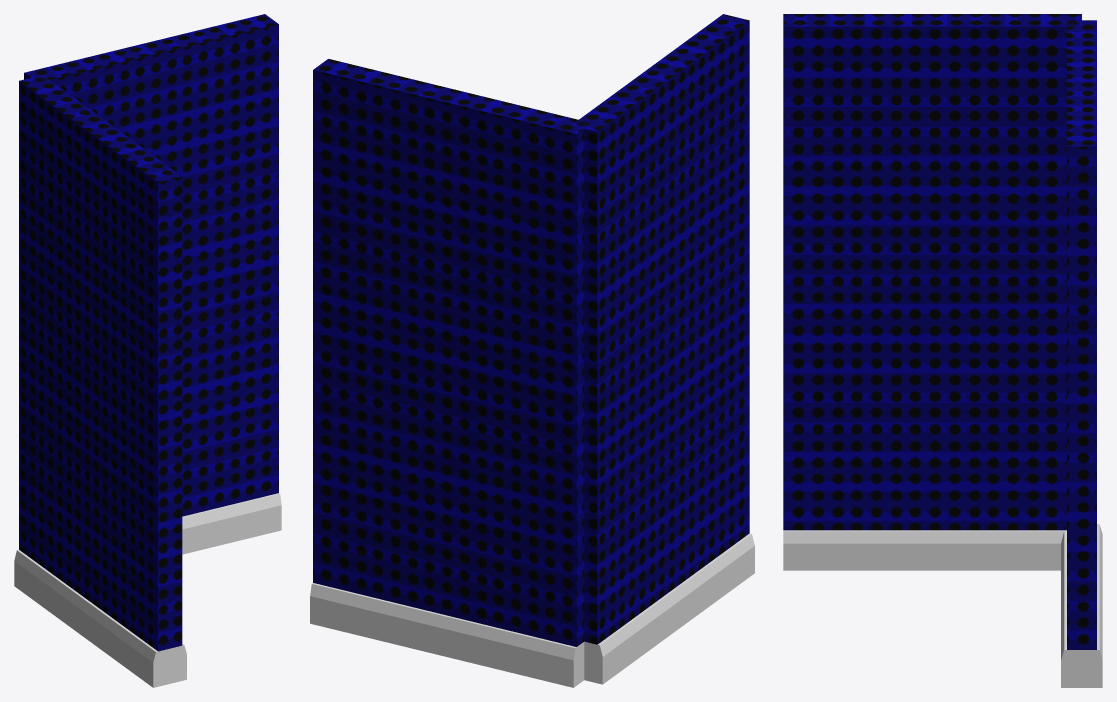
File: WallCorner.fbx
3 renders of one model, left to right at view 1: azimuth 30°, elevation 25°; view 2: azimuth 150°, elevation 25°; view 3: azimuth 270°, elevation 25°, orthographic. The views are drawn at different scales.
Parts seen in each view (by area): view 1: Wall.Corner; view 2: Wall.Corner; view 3: Wall.Corner.
Part boxes in pixels (bbox=[...]): Wall.Corner: bbox=[14, 14, 281, 687]; Wall.Corner: bbox=[310, 14, 754, 687]; Wall.Corner: bbox=[783, 14, 1102, 687].
Size of the model in its own units: 535 by 1000 by 535.
2 materials, 1 textured.
